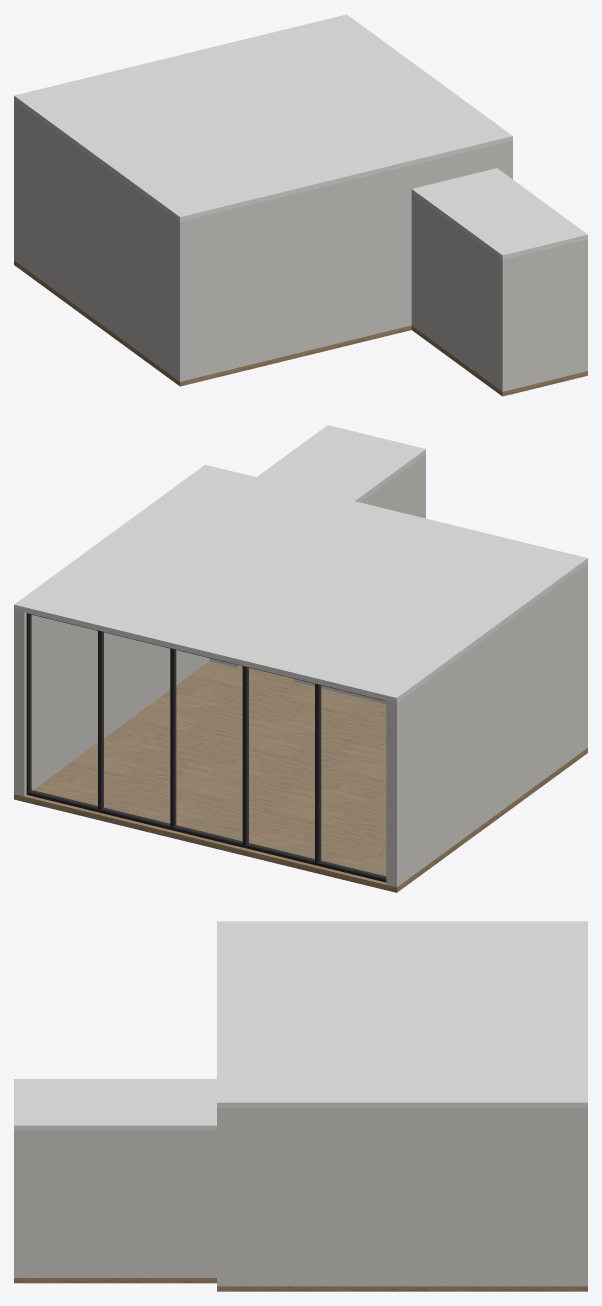
Rendered from office_shell.gltf.
3 views of the same model, one above another, from view 1: azimuth 30°, elevation 25°; view 2: azimuth 150°, elevation 25°; view 3: azimuth 270°, elevation 25° (orthographic). The views are drawn at different scales.
Parts seen in each view (by area): view 1: Office_Ceiling, Office_Wall_S_A, Office_Wall_W, Office_Corridor_Wall_W, Office_Corridor_Wall_End, Office_Corridor_Ceiling, Office_Floor, Office_Wall_S_Header, Office_Corridor_Wall_E, Office_Corridor_Floor; view 2: Office_Ceiling, Office_Glass, Office_Floor, Office_Wall_W, Office_Wall_E, Office_Corridor_Ceiling, Office_Window_Sill, Office_Corridor_Wall_W, Office_Mullion_2, Office_Mullion_3, Office_Mullion_1, Office_Mullion_4 (+1 smaller); view 3: Office_Ceiling, Office_Wall_E, Office_Corridor_Wall_E, Office_Corridor_Ceiling, Office_Floor, Office_Corridor_Floor.
Boxes of the visible parts, x1,y1,x2,y2 form: Office_Ceiling: (14,14,512,221); Office_Wall_S_A: (189,163,420,379); Office_Wall_W: (14,100,188,381); Office_Corridor_Wall_W: (411,194,511,391); Office_Corridor_Wall_End: (511,241,578,389); Office_Corridor_Ceiling: (411,168,587,259); Office_Floor: (14,260,411,386); Office_Wall_S_Header: (429,149,478,184); Office_Corridor_Wall_E: (579,239,587,372); Office_Corridor_Floor: (411,325,587,396); Office_Ceiling: (14,464,587,703); Office_Glass: (30,615,385,877); Office_Floor: (14,661,587,892); Office_Wall_W: (386,564,587,887); Office_Wall_E: (14,610,209,796); Office_Corridor_Ceiling: (257,425,425,502); Office_Window_Sill: (26,790,386,882); Office_Corridor_Wall_W: (360,455,425,518); Office_Mullion_2: (242,666,248,845); Office_Mullion_3: (170,648,176,827); Office_Mullion_1: (315,684,321,862); Office_Mullion_4: (98,631,103,809); Office_Ceiling: (217,921,587,1107); Office_Wall_E: (217,1107,587,1286); Office_Corridor_Wall_E: (14,1130,216,1277); Office_Corridor_Ceiling: (14,1079,216,1130); Office_Floor: (217,1286,587,1291); Office_Corridor_Floor: (14,1278,216,1283).
Size of the model in its own units: 7.4 by 3.6 by 9.9.
6 materials, 1 textured.
